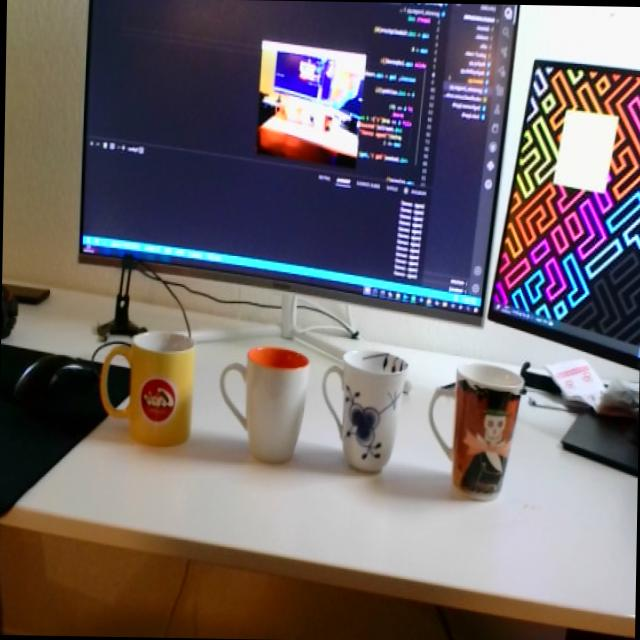Cocio Cup: (92, 326, 194, 448)
Halloween cup: (422, 359, 522, 497)
Hand painted cup: (320, 348, 408, 474)
White Cup: (218, 345, 310, 463)
